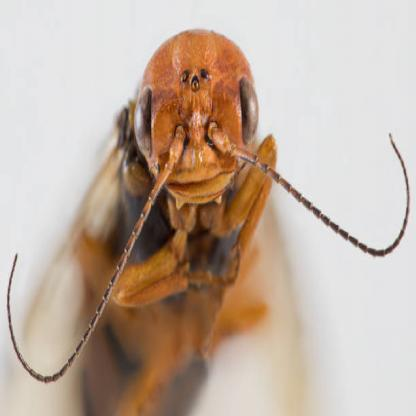sawfly: (5, 18, 416, 416)
